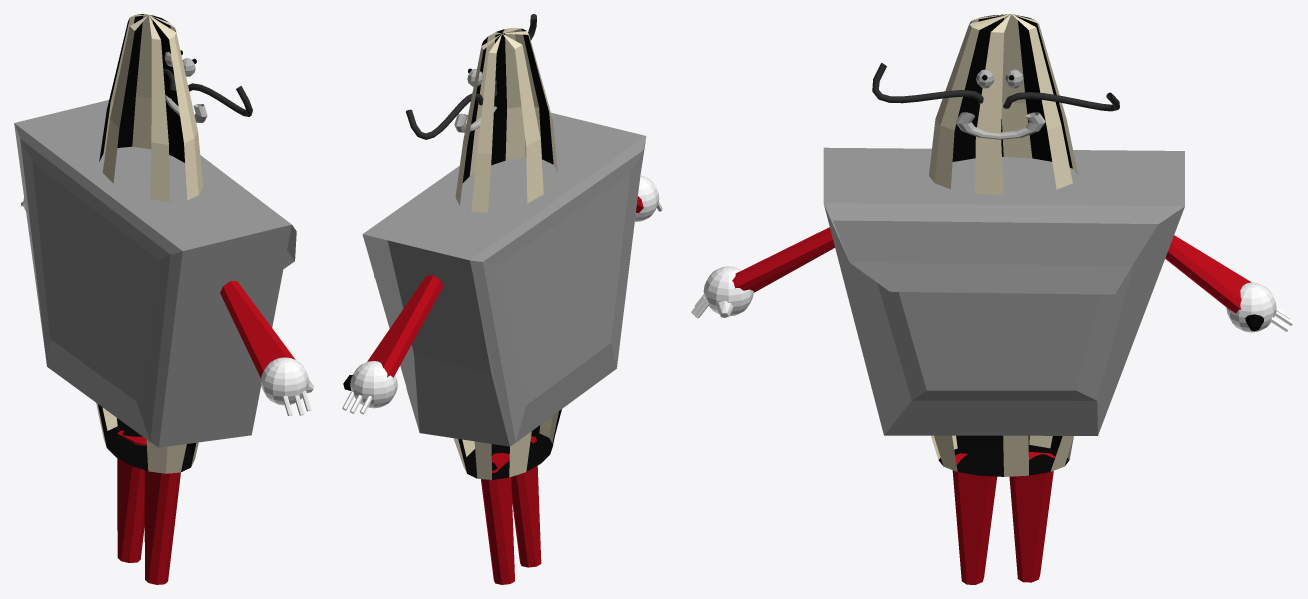
File: ZirhliCigdem.fbx
The picture shows the model from 3 angles, left to right: view 1: azimuth 30°, elevation 25°; view 2: azimuth 150°, elevation 25°; view 3: azimuth 270°, elevation 25°; orthographic projection. The views are drawn at different scales.
Parts seen in each view (by area): view 1: Cone.001, BézierCurve.005; view 2: Cone.001, BézierCurve.006; view 3: Cone.001, BézierCurve.005, BézierCurve.006.
Part boxes in pixels (bbox=[...]): Cone.001: bbox=[14, 14, 313, 584]; BézierCurve.005: bbox=[188, 83, 252, 116]; Cone.001: bbox=[342, 27, 662, 584]; BézierCurve.006: bbox=[406, 93, 483, 139]; Cone.001: bbox=[691, 14, 1293, 584]; BézierCurve.005: bbox=[872, 63, 983, 105]; BézierCurve.006: bbox=[1003, 92, 1119, 111].
Bounding box in the file's own units: 121 × 452 × 432.
